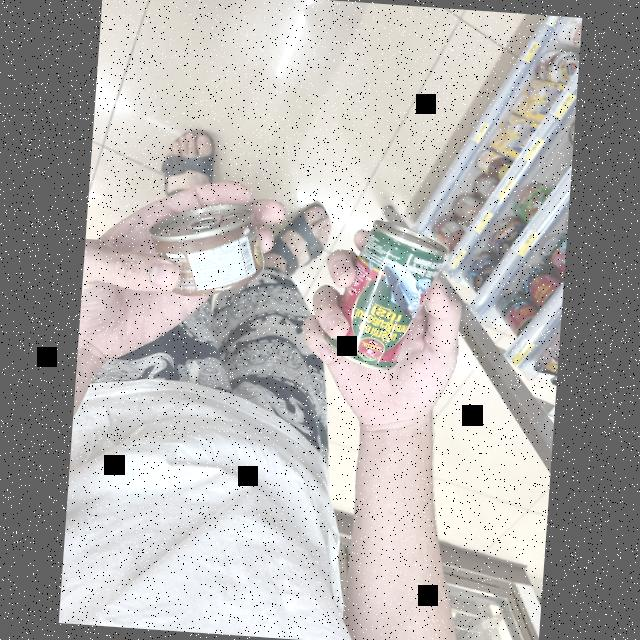can: (300, 220, 462, 384), (136, 200, 270, 301)
